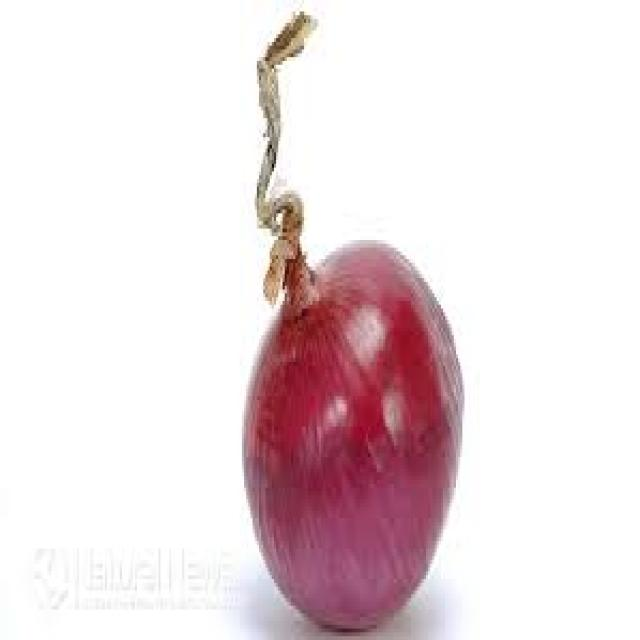organic waste: (242, 8, 460, 628)
